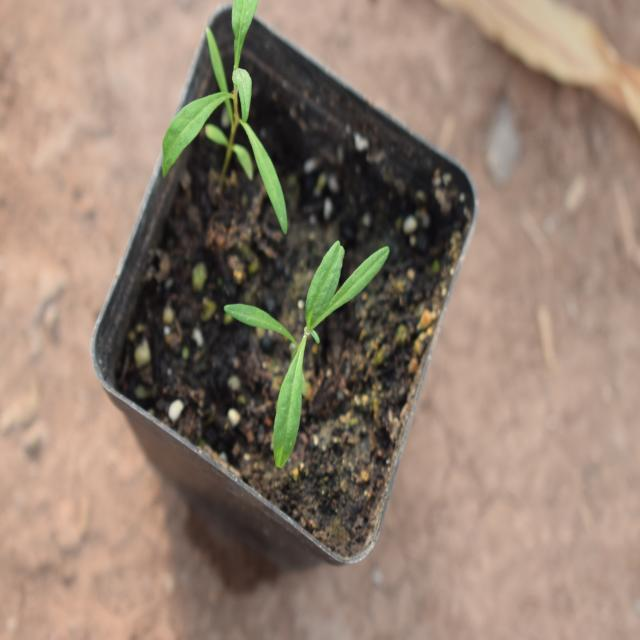white_smart_weed: (221, 213, 399, 486), (144, 1, 292, 248)
